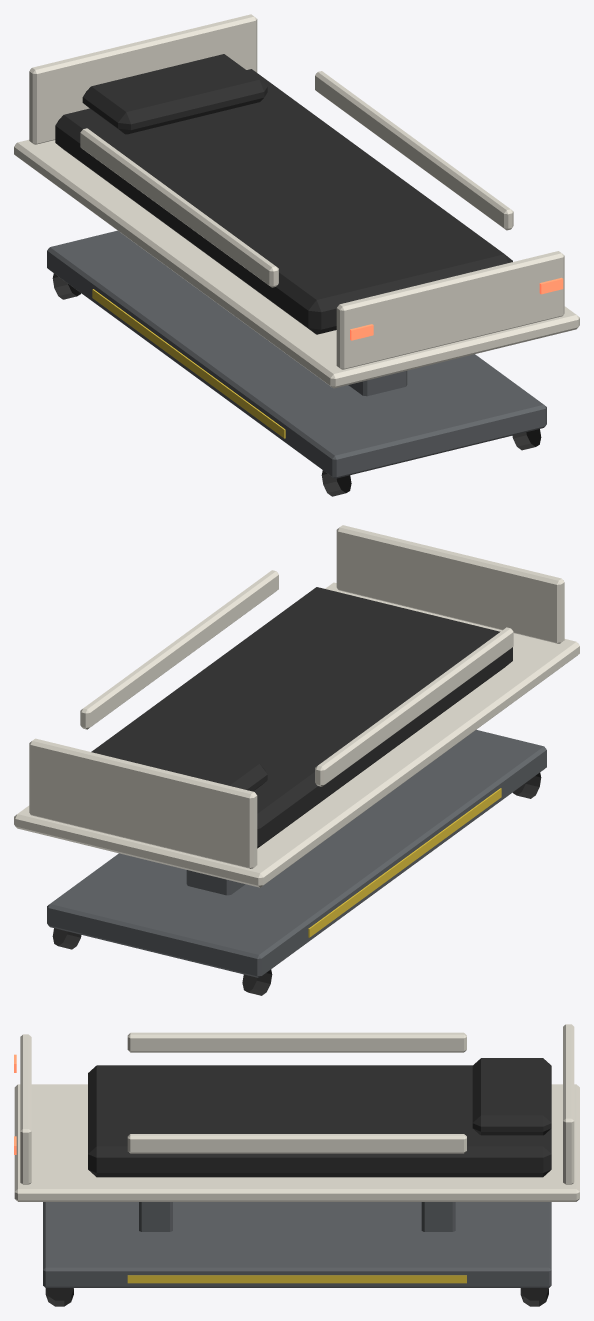
File: bed.glb
The picture shows the model from 3 angles, top to bottom: view 1: azimuth 30°, elevation 25°; view 2: azimuth 150°, elevation 25°; view 3: azimuth 270°, elevation 25°; orthographic projection. The views are drawn at different scales.
Visible parts, largest first — view 1: bed; view 2: bed; view 3: bed.
Part boxes in pixels (x1,y1,x2,y2): bed: (14,14,579,496); bed: (14,525,579,995); bed: (14,1024,579,1306).
Bounding box in the file's own units: 0.9 × 0.7476 × 2.
